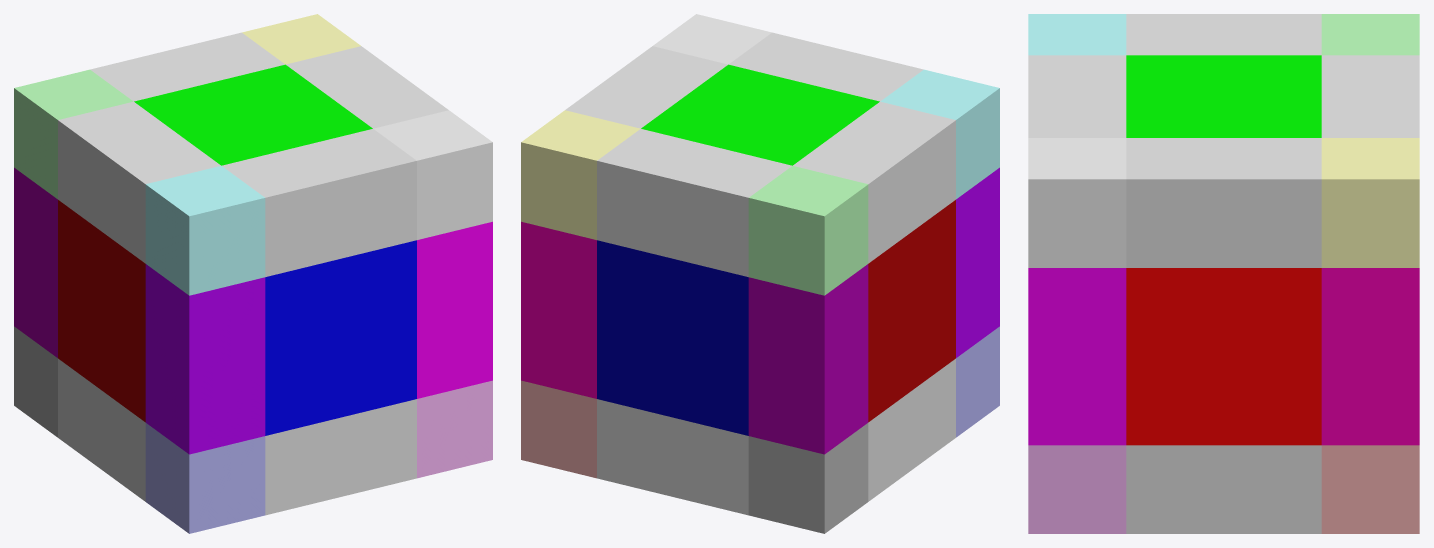
File: cubeNav.glb
The picture shows the model from 3 angles, left to right: view 1: azimuth 30°, elevation 25°; view 2: azimuth 150°, elevation 25°; view 3: azimuth 270°, elevation 25°; orthographic projection. The views are drawn at different scales.
Parts seen in each view (by area): view 1: FRONT, FRONT-LEFT, FRONT-TOP, LEFT, TOP-LEFT, TOP, FRONT-TOP-LEFT, FRONT-BOTTOM, FRONT-RIGHT, FRONT-BOTTOM-LEFT, FRONT-TOP-RIGHT, BOTTOM-LEFT (+7 smaller); view 2: BACK, BACK-LEFT, BACK-TOP, LEFT, TOP-LEFT, TOP, BACK-TOP-LEFT, BACK-BOTTOM, BACK-RIGHT, BACK-BOTTOM-LEFT, BACK-TOP-RIGHT, BOTTOM-LEFT (+7 smaller); view 3: RIGHT, TOP-RIGHT, BACK-RIGHT, FRONT-RIGHT, BOTTOM-RIGHT, TOP, BACK-TOP-RIGHT, FRONT-TOP-RIGHT, BACK-BOTTOM-RIGHT, FRONT-BOTTOM-RIGHT, TOP-LEFT, BACK-TOP (+3 smaller).
Part boxes in pixels (x1=…): FRONT: x1=265, y1=240, x2=416, y2=435; FRONT-LEFT: x1=145, y1=264, x2=265, y2=454; FRONT-TOP: x1=222, y1=129, x2=416, y2=276; LEFT: x1=58, y1=200, x2=145, y2=422; TOP-LEFT: x1=58, y1=101, x2=220, y2=263; TOP: x1=134, y1=64, x2=372, y2=165; FRONT-TOP-LEFT: x1=145, y1=165, x2=265, y2=295; FRONT-BOTTOM: x1=265, y1=399, x2=416, y2=515; FRONT-RIGHT: x1=417, y1=221, x2=492, y2=398; FRONT-BOTTOM-LEFT: x1=145, y1=423, x2=265, y2=533; FRONT-TOP-RIGHT: x1=373, y1=110, x2=492, y2=239; BOTTOM-LEFT: x1=58, y1=358, x2=145, y2=501; BACK: x1=597, y1=240, x2=748, y2=435; BACK-LEFT: x1=748, y1=264, x2=868, y2=454; BACK-TOP: x1=597, y1=129, x2=791, y2=276; LEFT: x1=868, y1=200, x2=955, y2=422; TOP-LEFT: x1=793, y1=101, x2=955, y2=263; TOP: x1=641, y1=64, x2=879, y2=165; BACK-TOP-LEFT: x1=748, y1=165, x2=868, y2=295; BACK-BOTTOM: x1=597, y1=399, x2=748, y2=515; BACK-RIGHT: x1=521, y1=221, x2=596, y2=398; BACK-BOTTOM-LEFT: x1=748, y1=423, x2=868, y2=533; BACK-TOP-RIGHT: x1=521, y1=110, x2=640, y2=239; BOTTOM-LEFT: x1=868, y1=358, x2=955, y2=501; RIGHT: x1=1126, y1=268, x2=1321, y2=445; TOP-RIGHT: x1=1126, y1=138, x2=1321, y2=267; BACK-RIGHT: x1=1321, y1=268, x2=1419, y2=445; FRONT-RIGHT: x1=1028, y1=268, x2=1126, y2=445; BOTTOM-RIGHT: x1=1126, y1=445, x2=1321, y2=533; TOP: x1=1126, y1=55, x2=1321, y2=137; BACK-TOP-RIGHT: x1=1321, y1=138, x2=1419, y2=267; FRONT-TOP-RIGHT: x1=1028, y1=138, x2=1126, y2=267; BACK-BOTTOM-RIGHT: x1=1321, y1=445, x2=1419, y2=533; FRONT-BOTTOM-RIGHT: x1=1028, y1=445, x2=1126, y2=533; TOP-LEFT: x1=1126, y1=14, x2=1321, y2=55; BACK-TOP: x1=1321, y1=55, x2=1419, y2=137.
Size of the model in its own units: 4 by 4 by 4.
